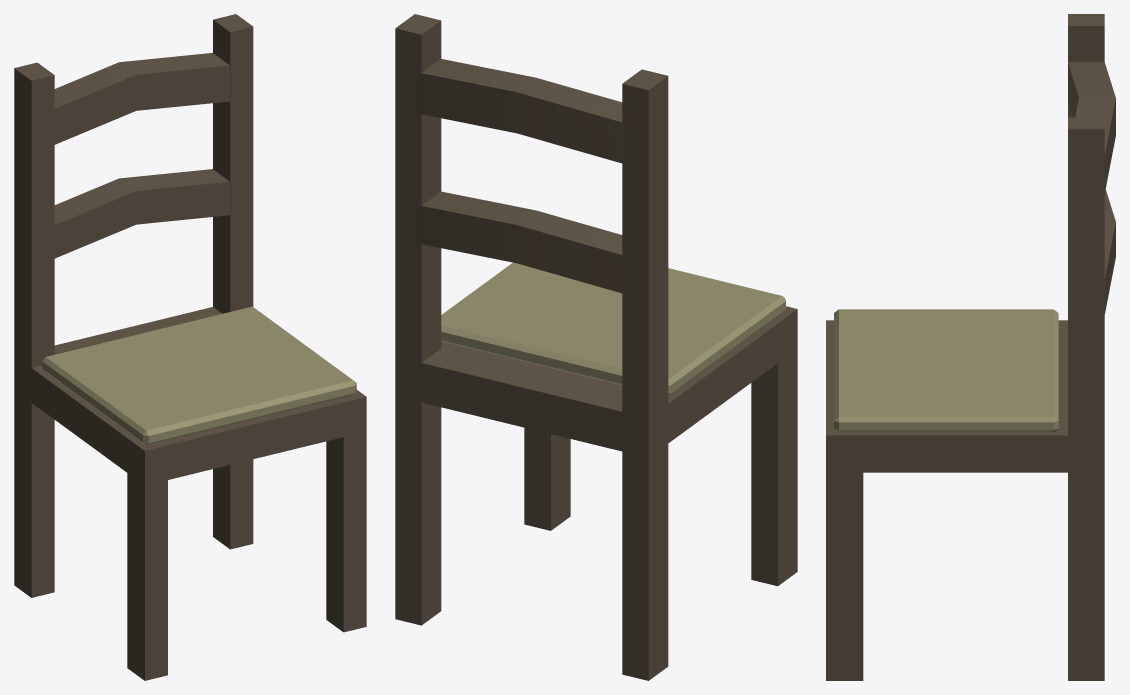
File: WoodenChair.fbx
The picture shows the model from 3 angles, left to right: view 1: azimuth 30°, elevation 25°; view 2: azimuth 150°, elevation 25°; view 3: azimuth 270°, elevation 25°; orthographic projection. The views are drawn at different scales.
Visible parts, largest first — view 1: Chair; view 2: Chair; view 3: Chair.
Part boxes in pixels (left/top/right/bottom): Chair: left=14, top=14, right=366, bottom=680; Chair: left=395, top=14, right=797, bottom=680; Chair: left=826, top=14, right=1115, bottom=680.
Size of the model in its own units: 52.96 by 118 by 56.17.
